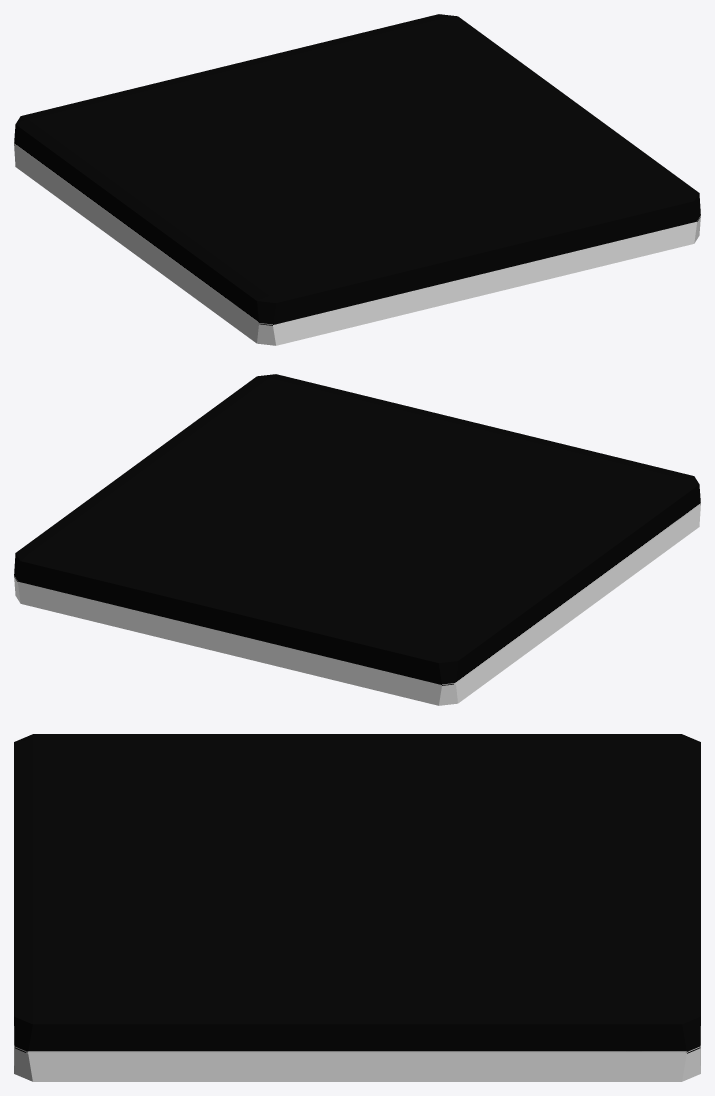
The model's file is Tile.glb.
The picture shows the model from 3 angles, top to bottom: view 1: azimuth 30°, elevation 25°; view 2: azimuth 150°, elevation 25°; view 3: azimuth 270°, elevation 25°; orthographic projection. The views are drawn at different scales.
Visible parts, largest first — view 1: Tile; view 2: Tile; view 3: Tile.
Part boxes in pixels (x1,y1,x2,y2): Tile: [14, 14, 700, 345]; Tile: [14, 374, 700, 705]; Tile: [14, 734, 700, 1081].
Size of the model in its own units: 1 by 0.1005 by 1.
1 material, 1 textured.
